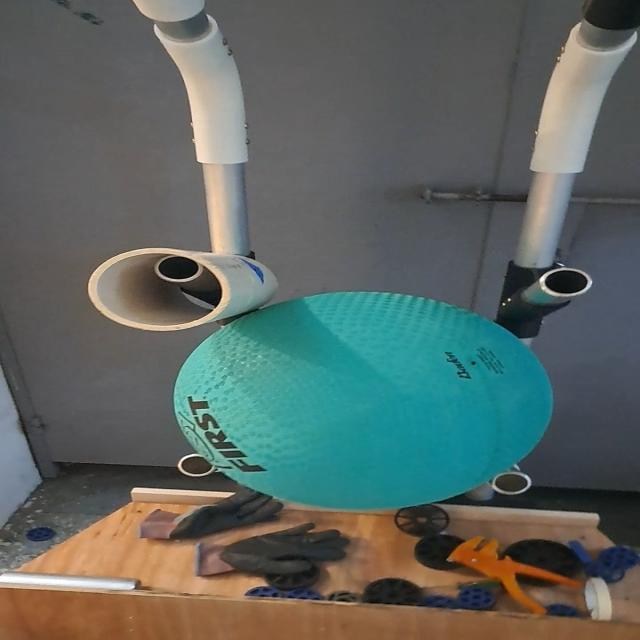ALGAE: (174, 291, 565, 514)
CORAL: (88, 246, 284, 331)
